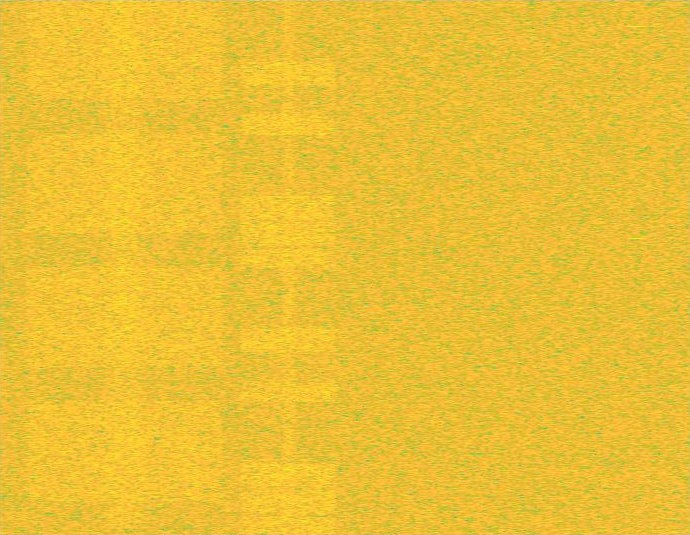5G: (21, 0, 228, 534)
DSSS: (101, 0, 148, 534), (281, 0, 295, 534)
LTE: (237, 0, 340, 534)
Radar: (630, 0, 644, 534)
